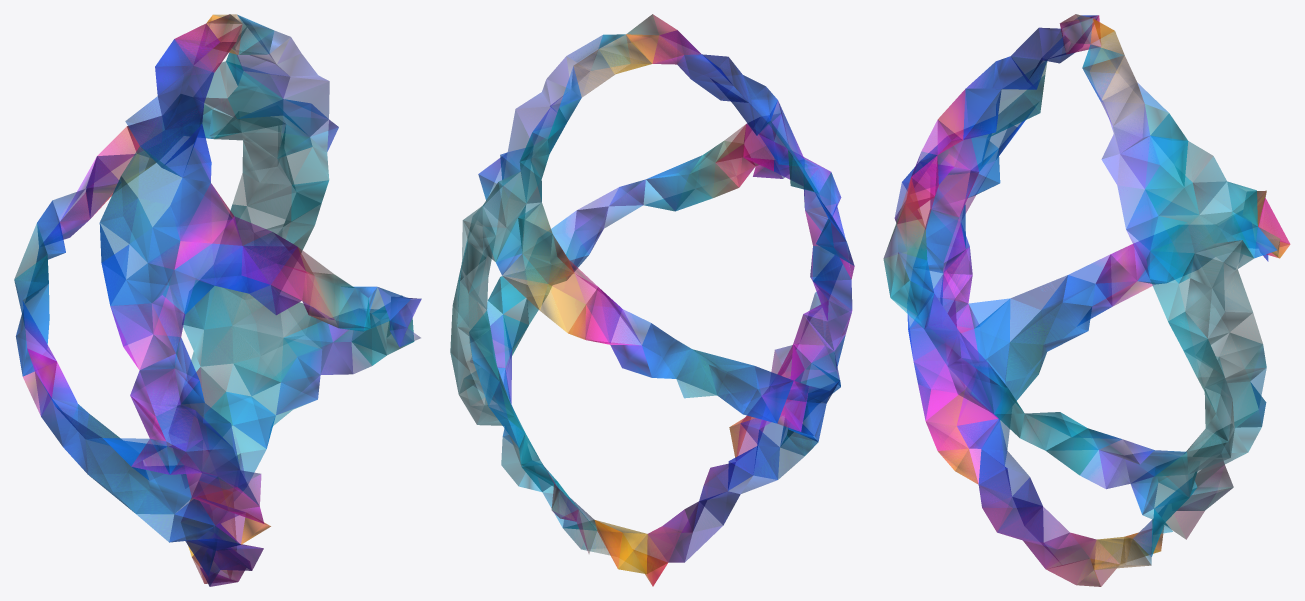
The model's file is mdl_chazzyb_decimated.glb.
The picture shows the model from 3 angles, left to right: view 1: azimuth 30°, elevation 25°; view 2: azimuth 150°, elevation 25°; view 3: azimuth 270°, elevation 25°; orthographic projection. The views are drawn at different scales.
Visible parts, largest first — view 1: Hedra001; view 2: Hedra001; view 3: Hedra001.
Boxes of the visible parts, x1,y1,x2,y2 form: Hedra001: (14, 14, 421, 586); Hedra001: (450, 14, 854, 586); Hedra001: (883, 14, 1290, 586).
Size of the model in its own units: 1.82 by 2.86 by 1.82.
1 material, 1 textured.
